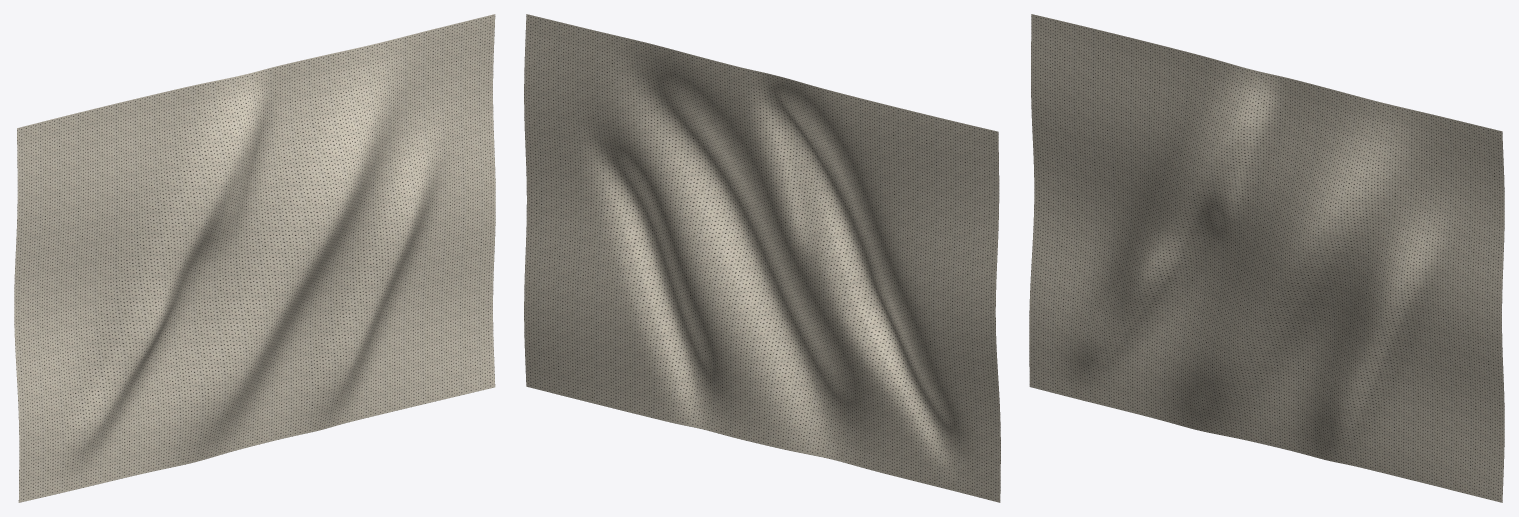
The model's file is cotton-jersey-v4.glb.
The picture shows the model from 3 angles, left to right: view 1: azimuth 30°, elevation 25°; view 2: azimuth 150°, elevation 25°; view 3: azimuth 330°, elevation 25°; orthographic projection.
Parts seen in each view (by area): view 1: CottonJerseySwatch; view 2: CottonJerseySwatch; view 3: CottonJerseySwatch.
Part boxes in pixels (left/top/right/bottom): CottonJerseySwatch: left=14, top=14, right=495, bottom=502; CottonJerseySwatch: left=524, top=14, right=1000, bottom=502; CottonJerseySwatch: left=1029, top=14, right=1504, bottom=502.
Size of the model in its own units: 16 by 12 by 1.47.
Materials: 1 (1 with a texture image).
